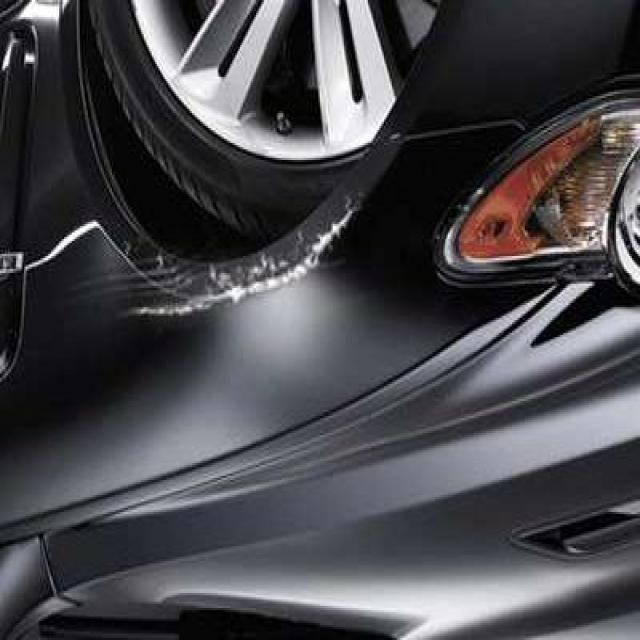scratch: (71, 190, 362, 348)
